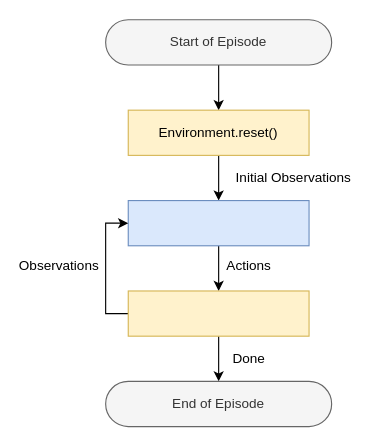
The diagram is 374 pixels wide and 446 high, and some of its shapes have lost their labels. The shapes that lost their labels are listed below. From the top down, each one's centre as x and y in pixels, then its label:
pixel 218 222: Take Actions From Policies
pixel 218 313: Environment.step()
